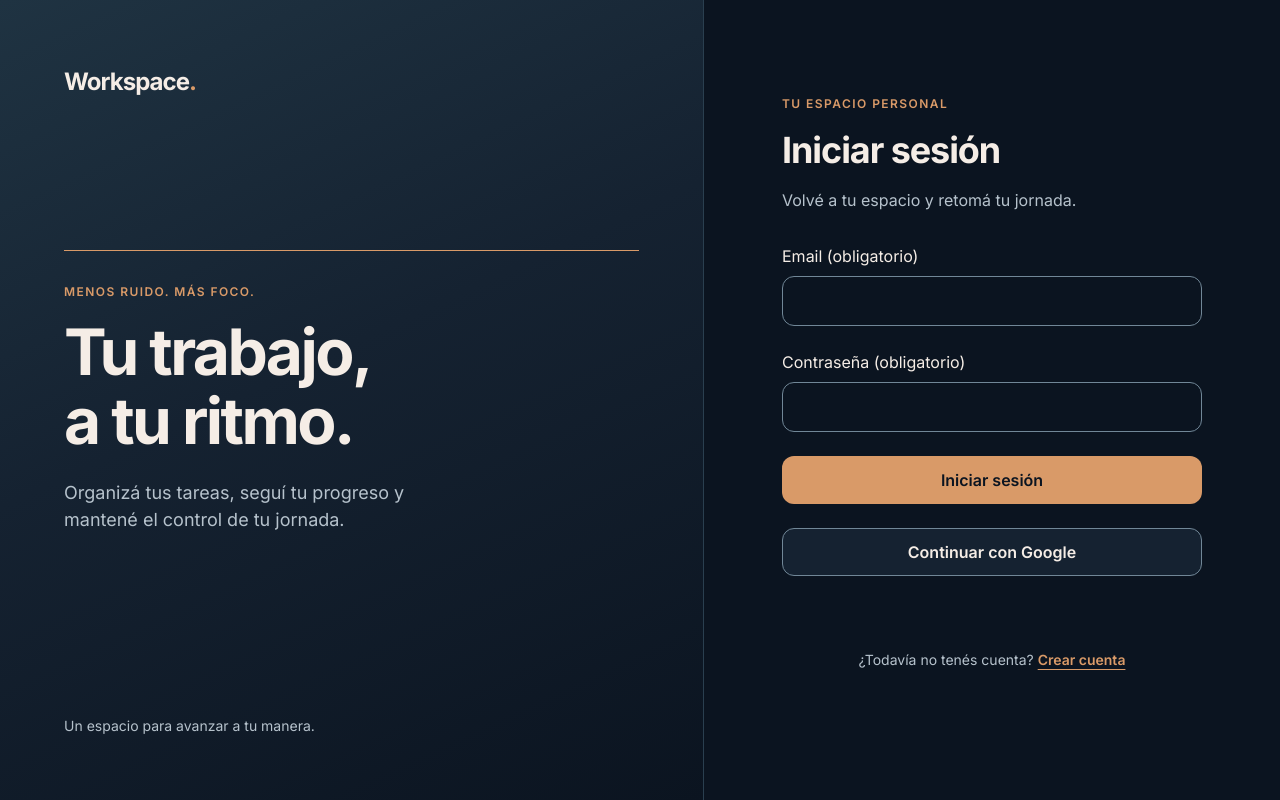
Test case: Sesión y rutas › explica auth/operation-not-allowed y vuelve a habilitar ambos métodos
Click the button "Continuar con Google": (992, 552) [782,528,1202,576]
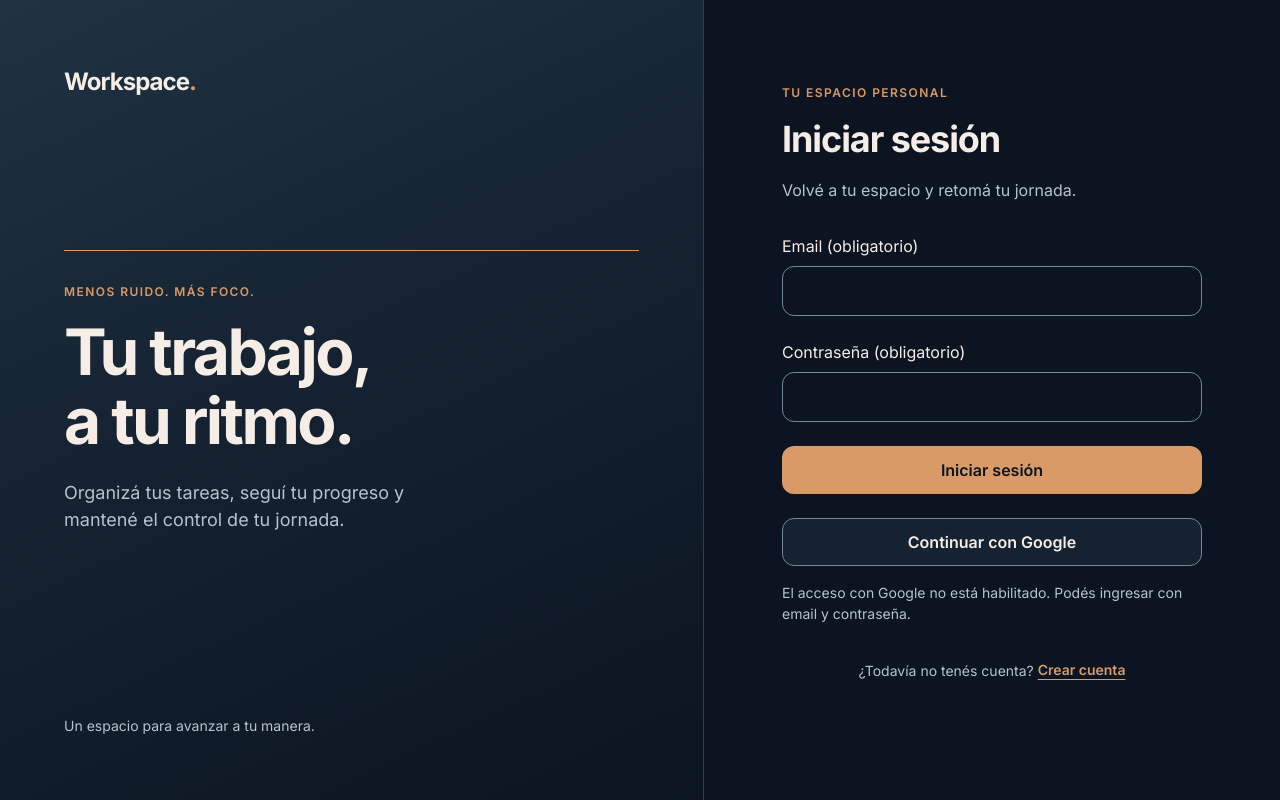
Expected: the message does not show "auth/operation-not-allowed", [782,582,1202,624]
Expected: the message shows "El acceso con Google no está habilitado", [782,584,1182,622]
